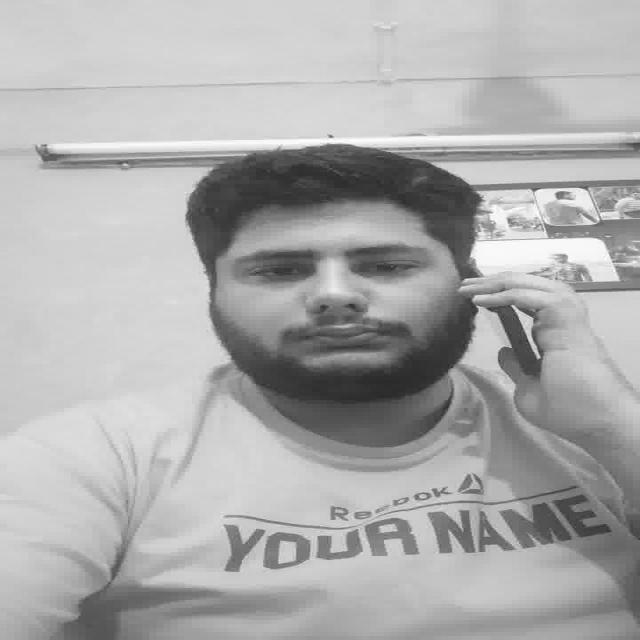fake: (466, 248, 550, 398)
real: (212, 208, 459, 368)
